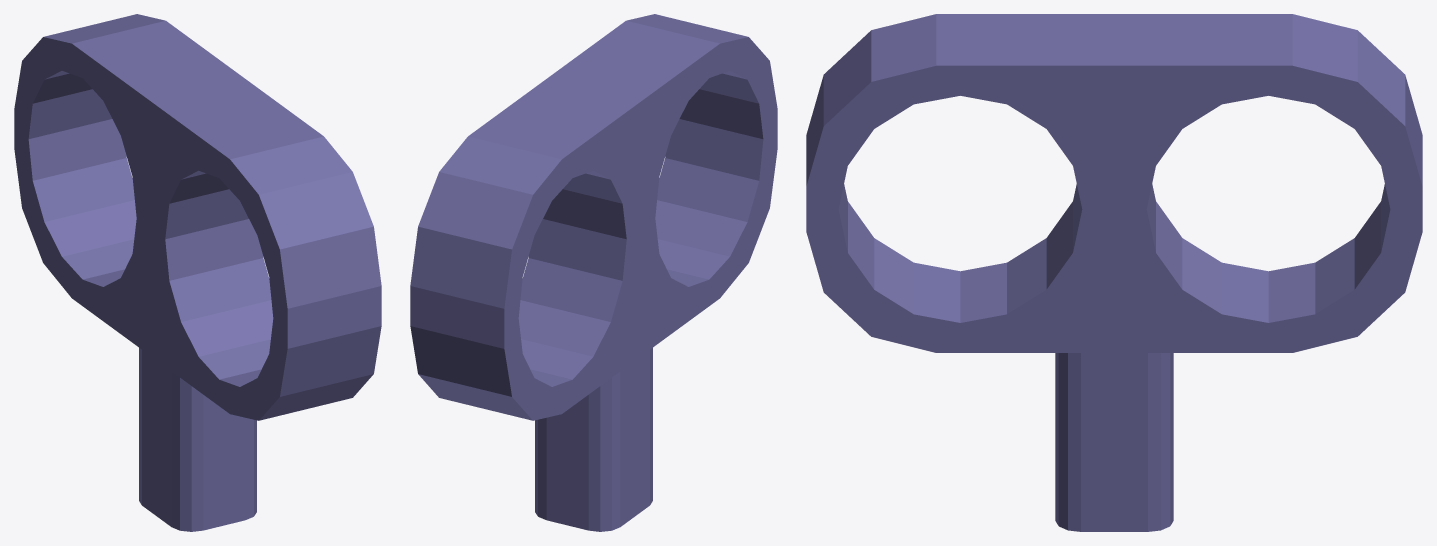
Rendered from TAufziehschlüssel.fbx.
The picture shows the model from 3 angles, left to right: view 1: azimuth 30°, elevation 25°; view 2: azimuth 150°, elevation 25°; view 3: azimuth 270°, elevation 25°; orthographic projection. The views are drawn at different scales.
Parts seen in each view (by area): view 1: TAufziehschlüssel; view 2: TAufziehschlüssel; view 3: TAufziehschlüssel.
Part boxes in pixels (x1=…): TAufziehschlüssel: x1=14, y1=14, x2=381, y2=531; TAufziehschlüssel: x1=410, y1=14, x2=777, y2=531; TAufziehschlüssel: x1=806, y1=14, x2=1422, y2=531.
Size of the model in its own units: 18.18 by 76.9 by 91.51.
